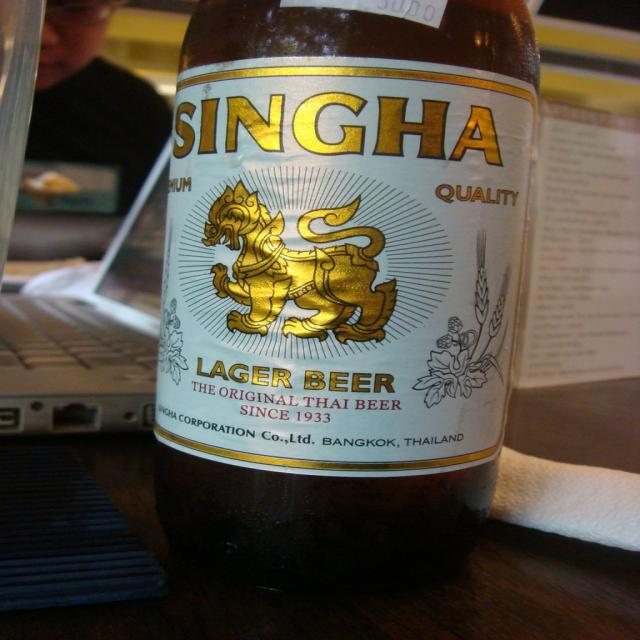singha: (154, 64, 541, 474)
